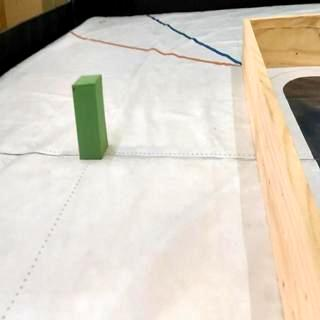greenbox: (74, 76, 108, 162)
